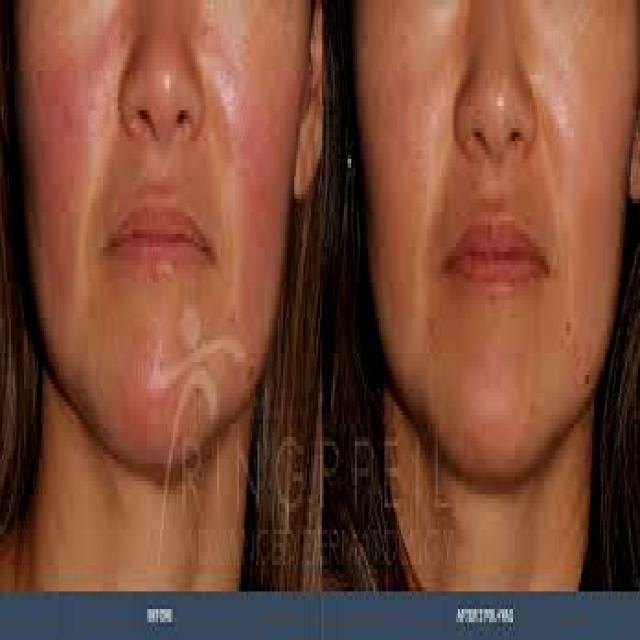Rosacea: (24, 20, 116, 279), (208, 60, 294, 326), (104, 323, 195, 444)
